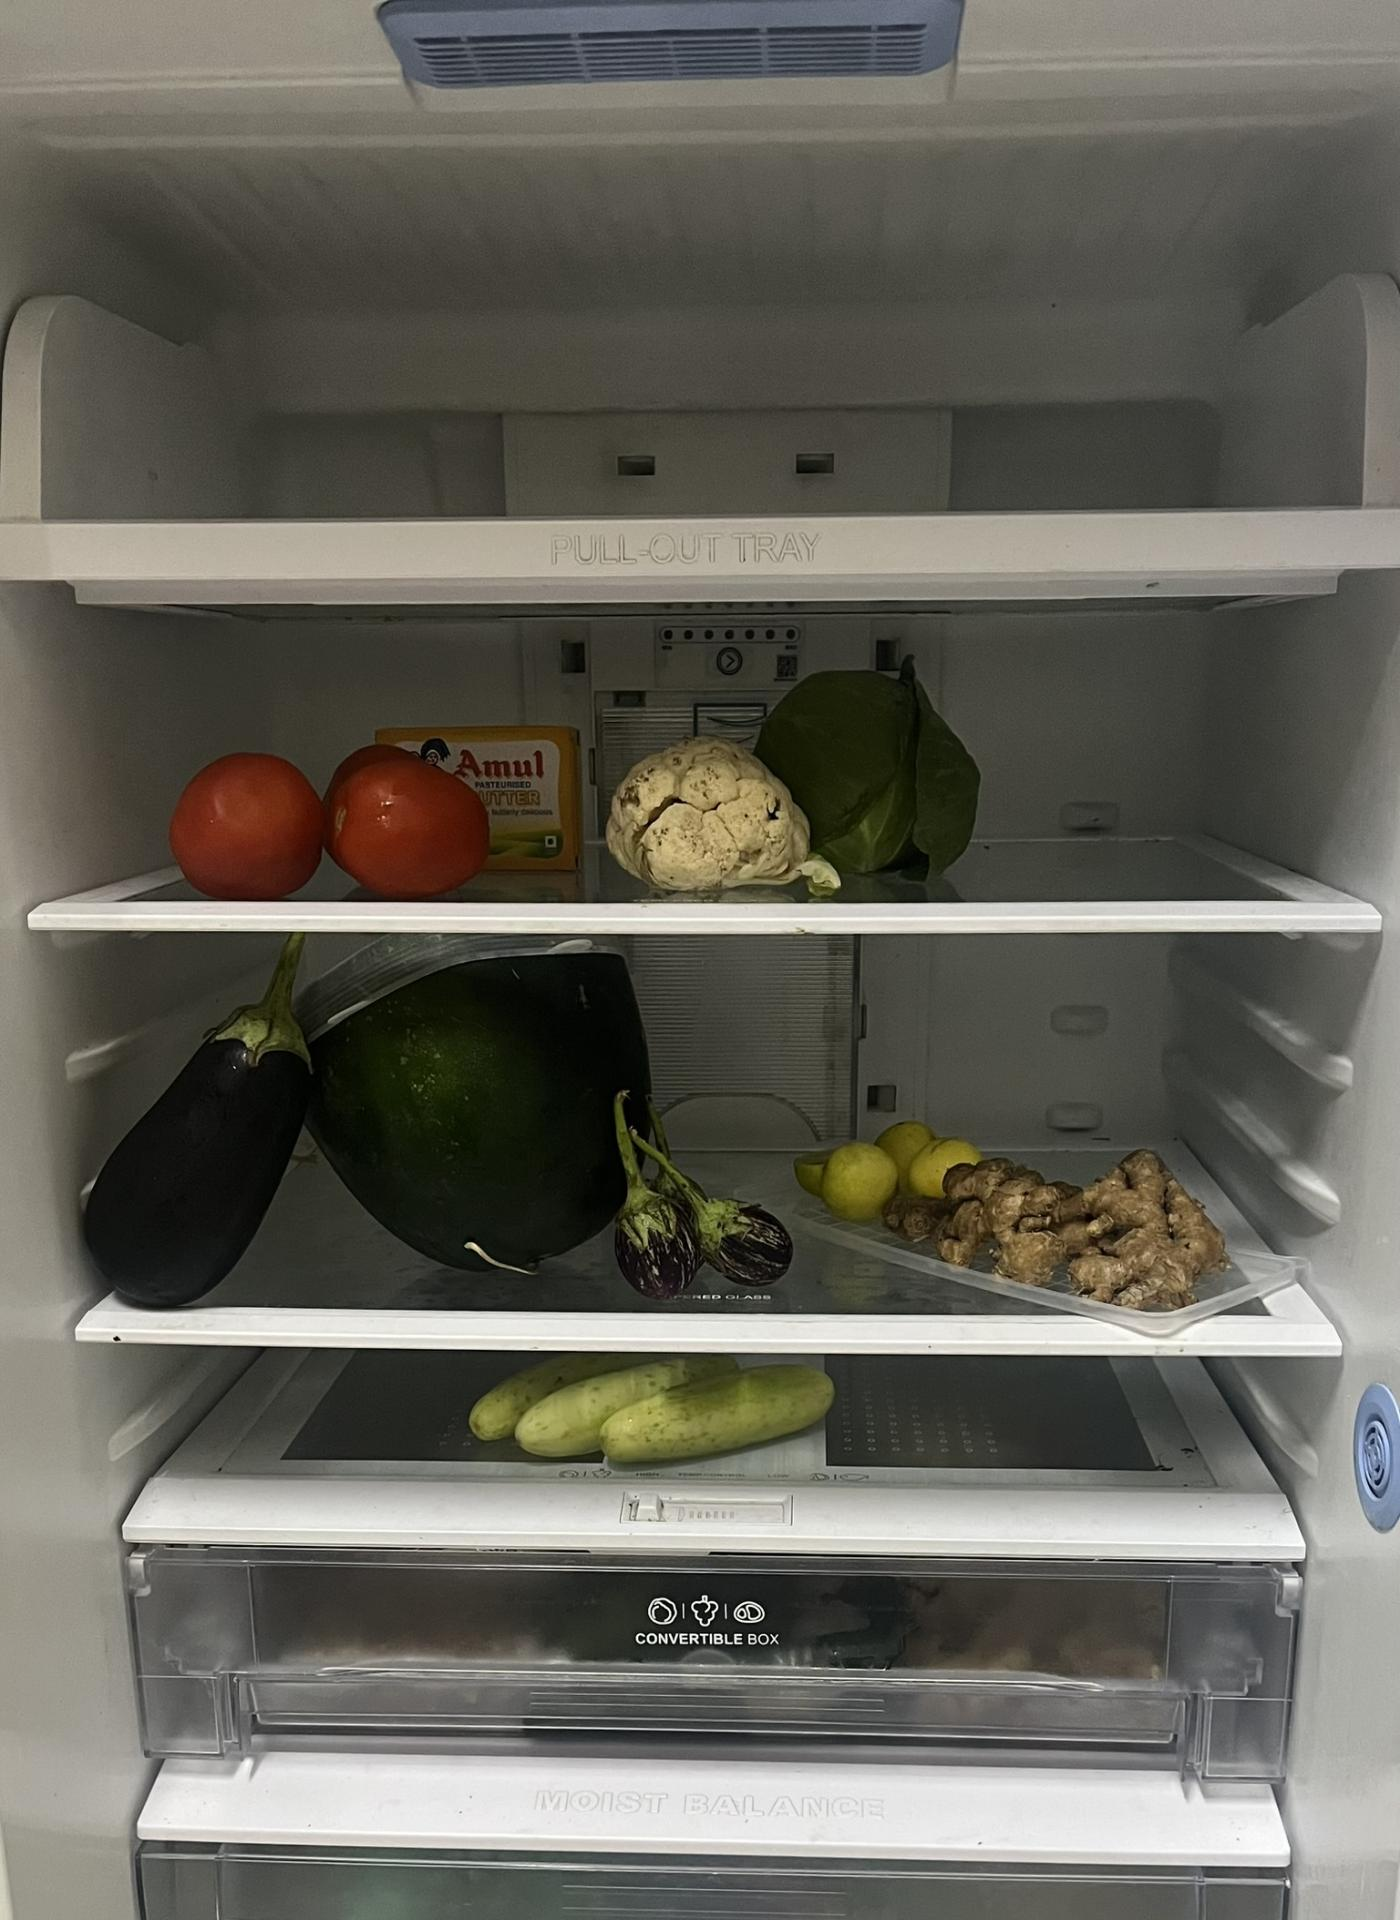brinjal: (81, 942, 304, 1319), (616, 1087, 790, 1298)
butter: (370, 726, 576, 866)
cabbage: (757, 665, 984, 875)
cauliflower: (610, 741, 813, 891)
cucumber: (464, 1349, 835, 1468)
ginger: (887, 1155, 1235, 1316)
lemon: (790, 1114, 984, 1212)
tomato: (168, 751, 495, 897)
watermelon: (295, 930, 655, 1275)
